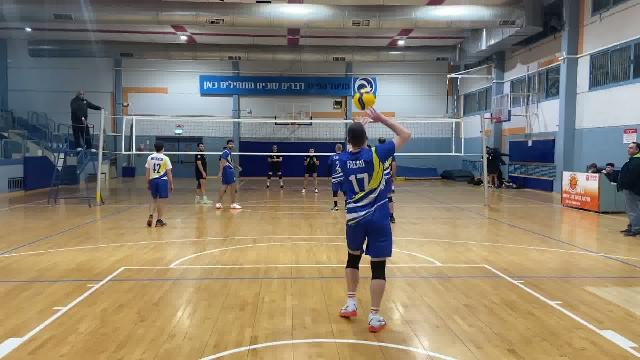ball: (352, 84, 377, 112)
